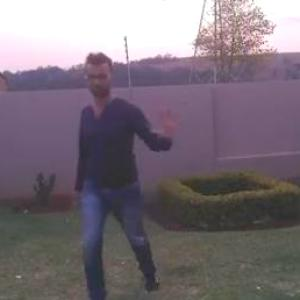follow_hand: (150, 103, 185, 138)
